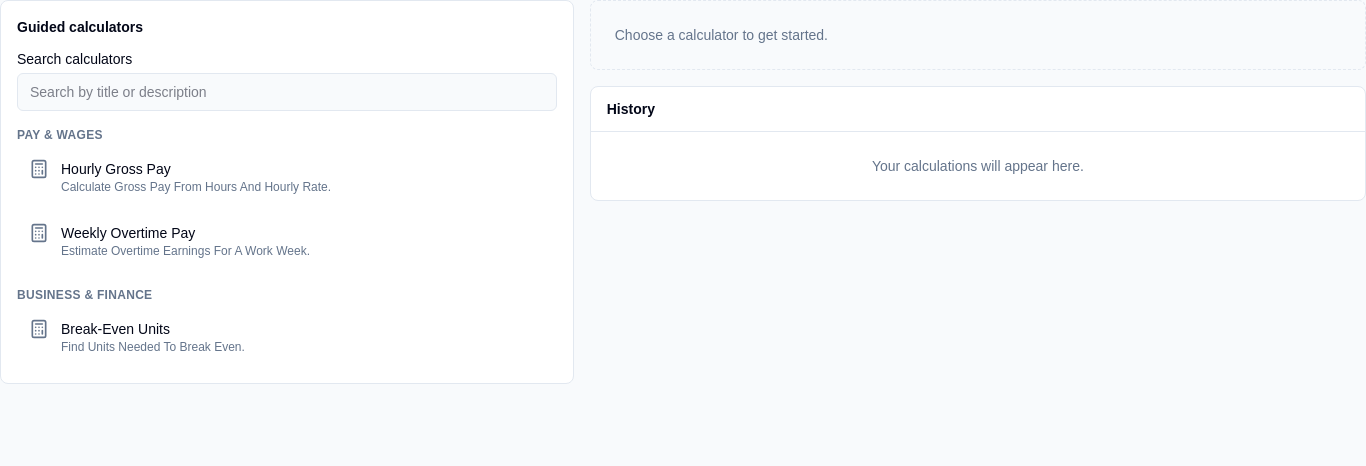
Test: MhdGuidedCalculator › blocks submission and identifies a missing required field
Click the button "Hourly Gross Pay" at x=287, y=177, box x1=17 y1=147 x2=557 y2=207
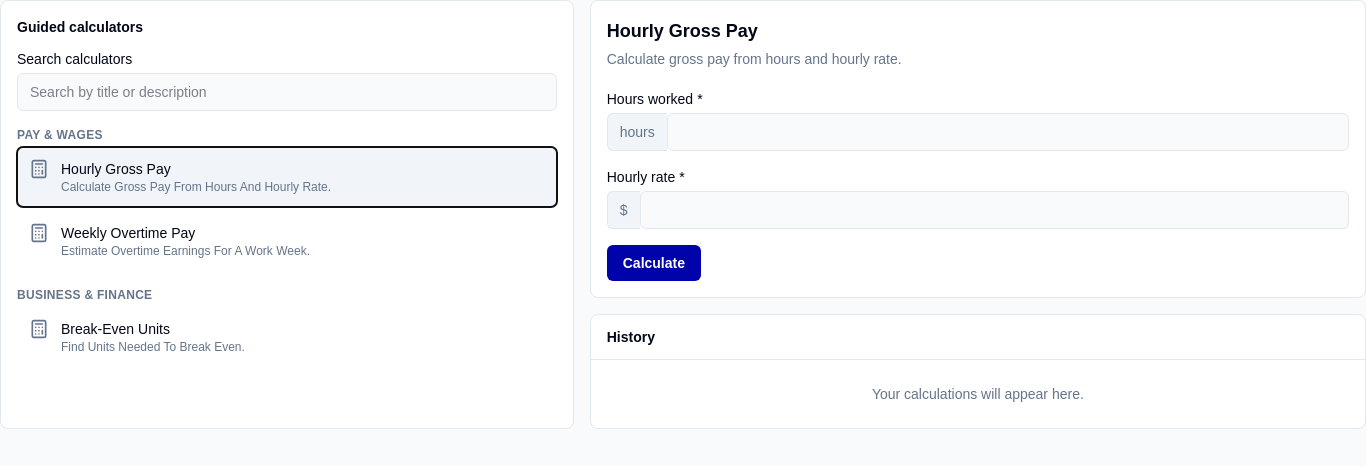
Type "40" into the number field labelled "Hours worked*" at x=1008, y=132, box x1=667 y1=113 x2=1349 y2=151
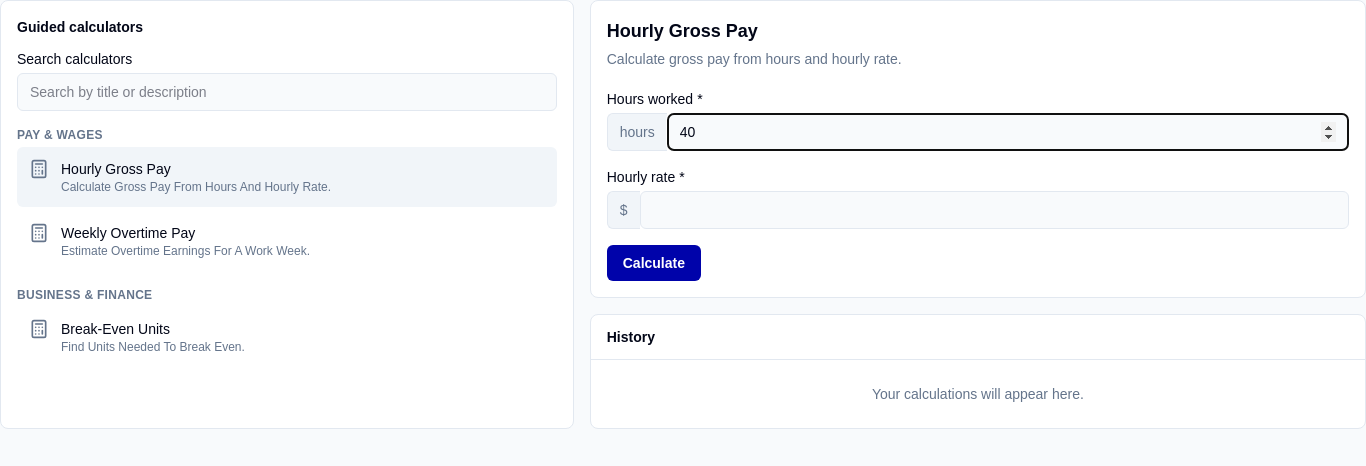
Click the button "Calculate" at x=654, y=263, box x1=607 y1=245 x2=701 y2=281
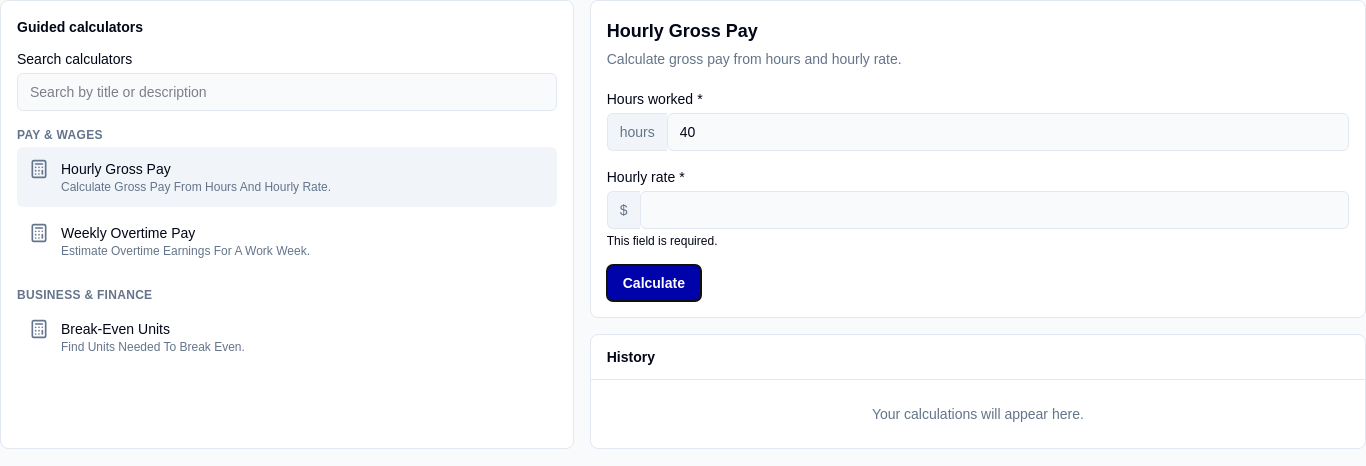
Expected: the heading "Pay & Wages" is shown, x1=17 y1=128 x2=103 y2=142
Now the message reads "This field is required.", box x1=607 y1=234 x2=718 y2=248
